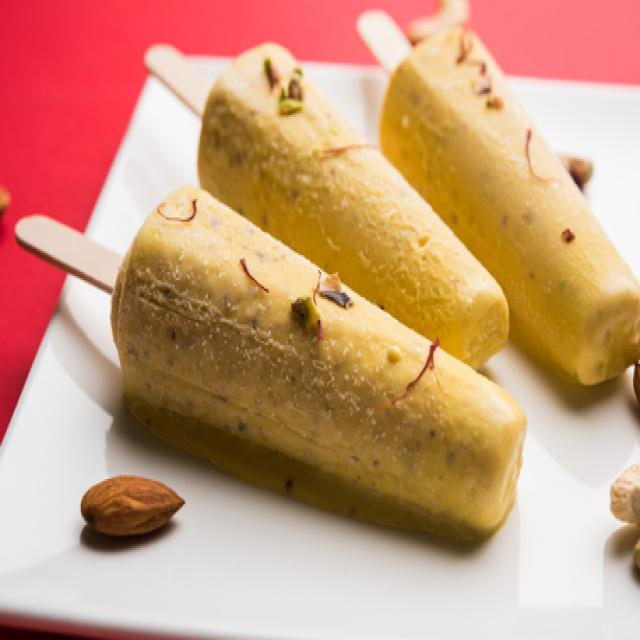kulfi: (110, 19, 640, 606)
